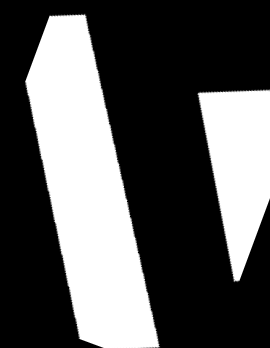parkingspot: (25, 14, 160, 348), (198, 90, 270, 282)
